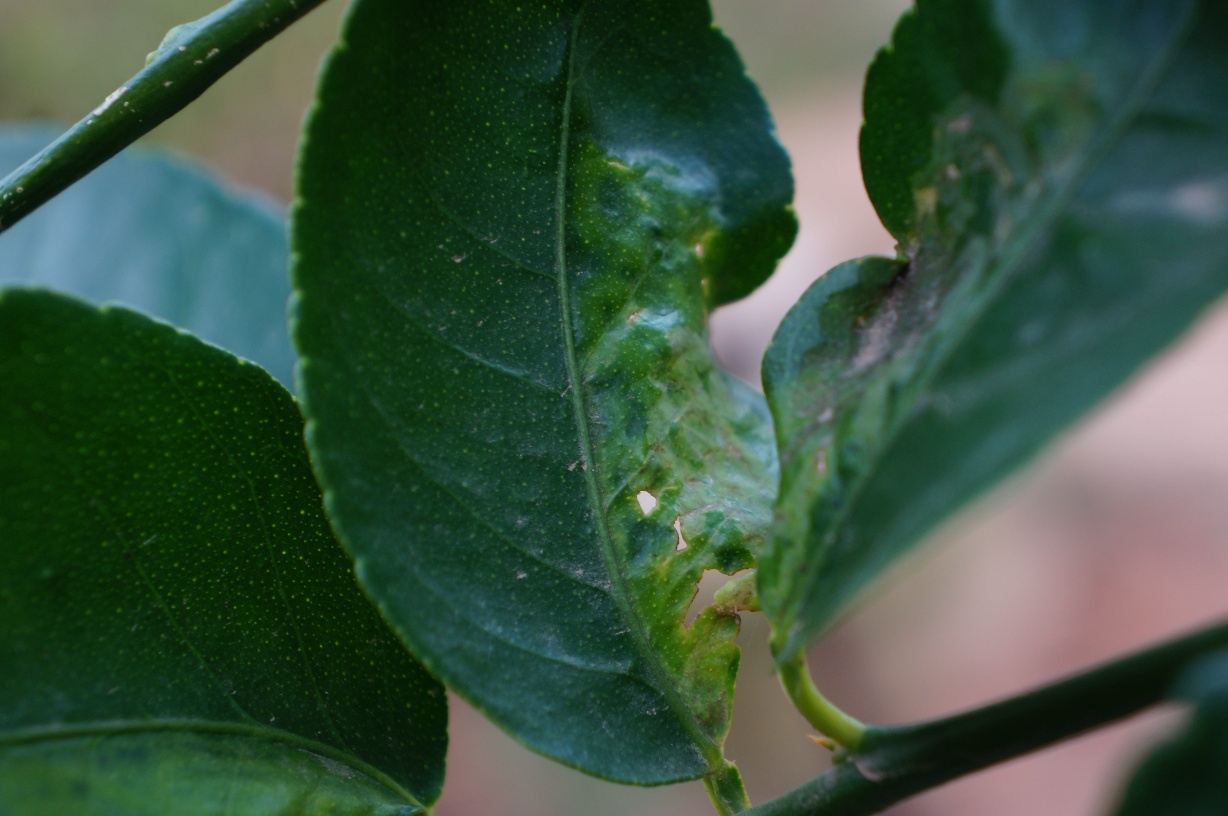damage: (558, 129, 821, 781)
